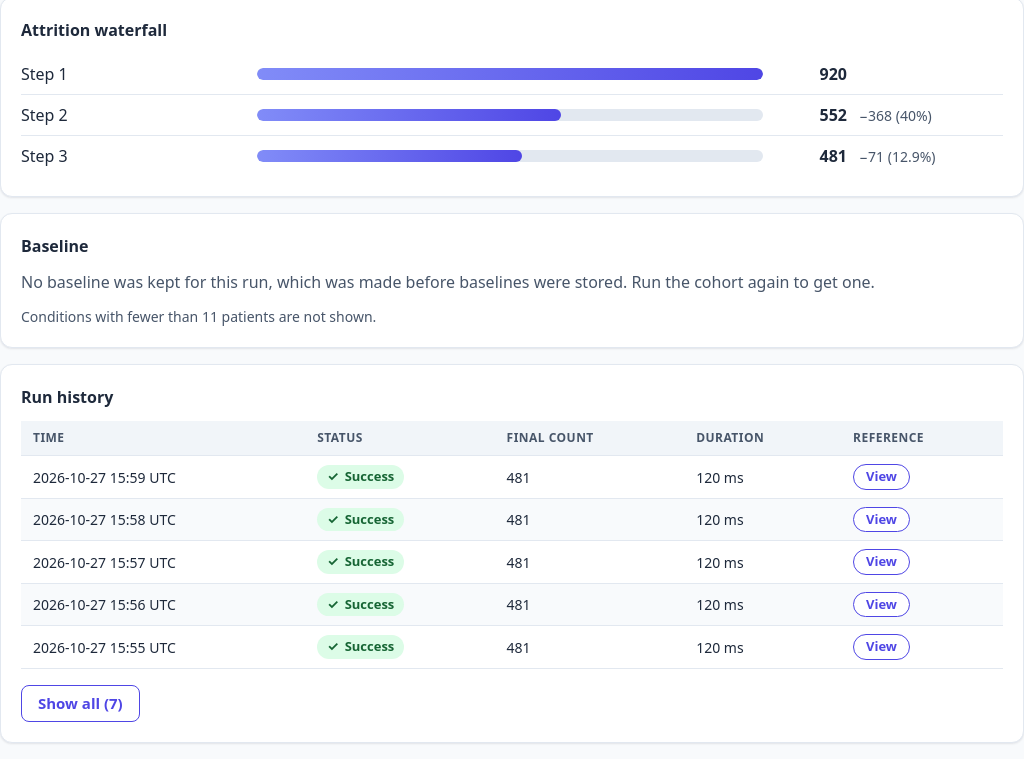
Test case: The run history shows the latest 5 runs and can show all › shows every run after Show all, and goes back with Show fewer
The image size is (1024, 759).
(page scrolled)
What coordinates should you click on to do the following:
click the button "Show all (7)"
I would click on:
 (80, 703)
Its box is [21,685,140,722].
(page scrolled)
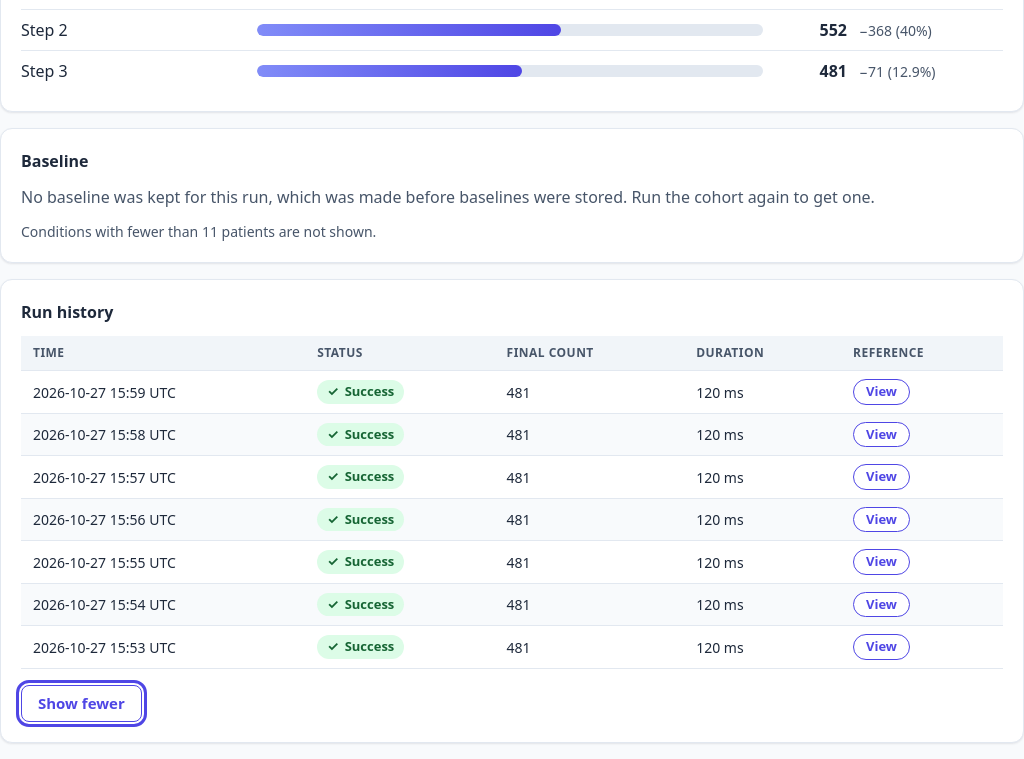
What coordinates should you click on to do the following:
click the button "Show fewer"
I would click on:
 (81, 703)
Its box is [21,685,142,722].
(page scrolled)
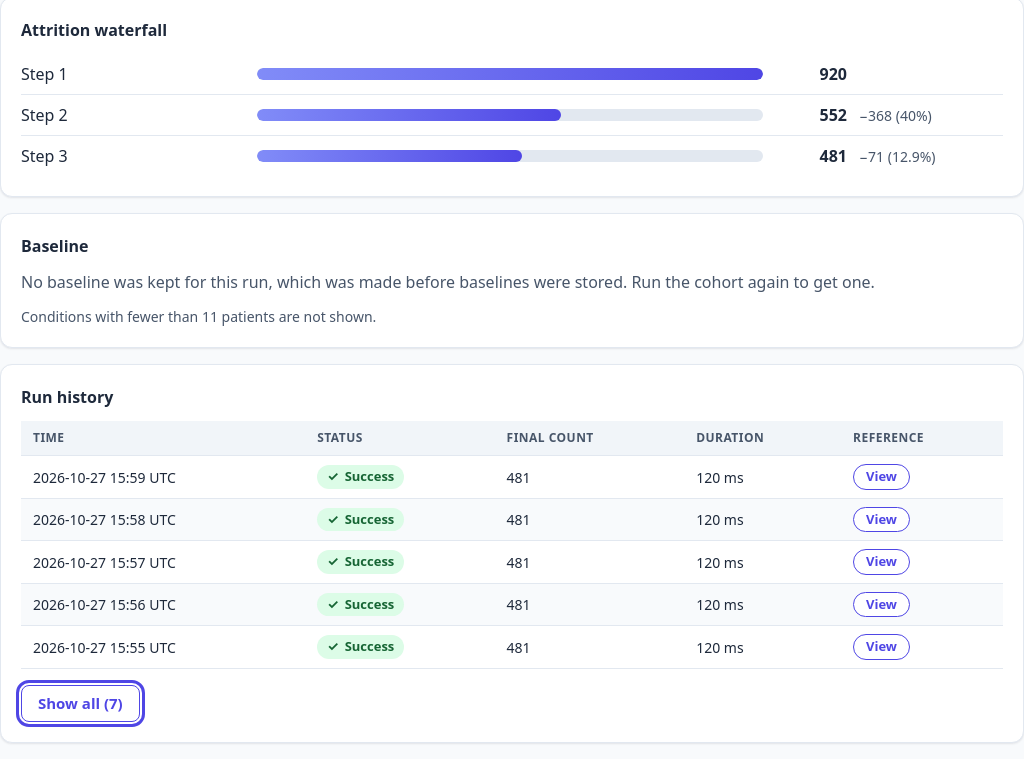
Result: the button "Show all (7)" is shown at [21,685,140,722]
